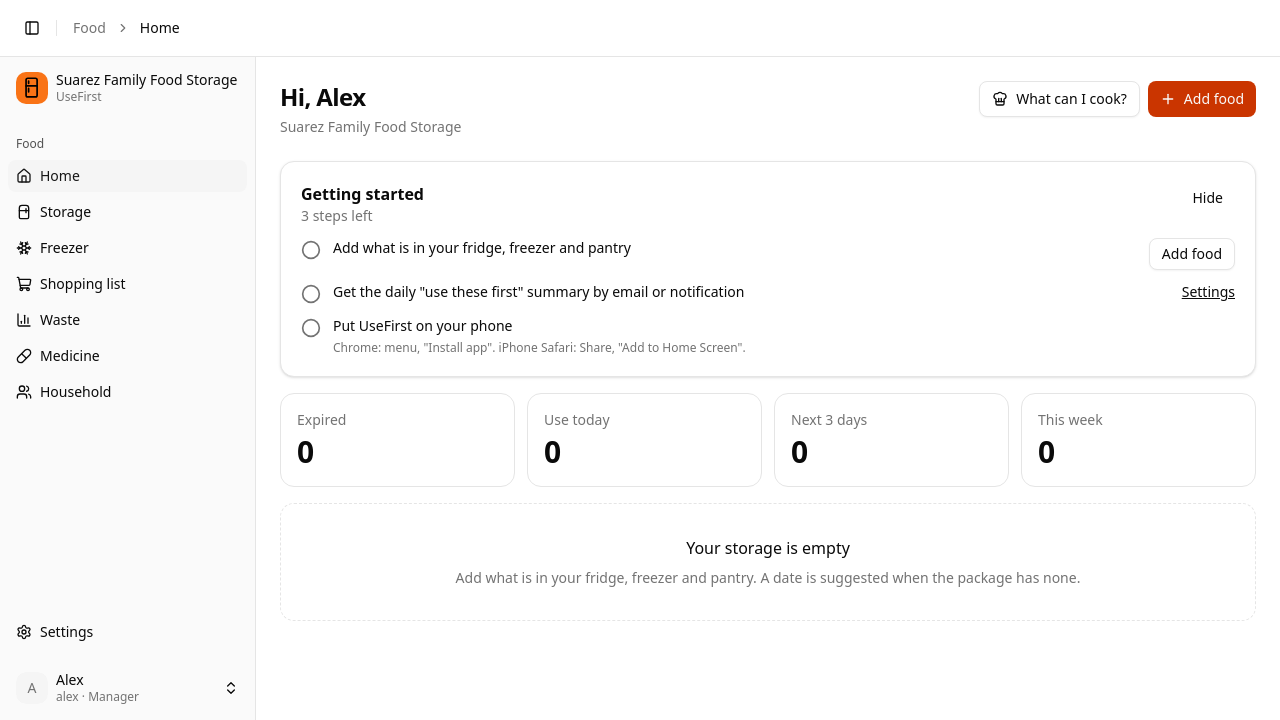
What can I cook? › shows ideas with what they use and the steps
Expected: the text "Your storage is empty" is shown, [686,537,850,559]
Click the button "What can I cook?": (1059, 99) [979,81,1140,117]
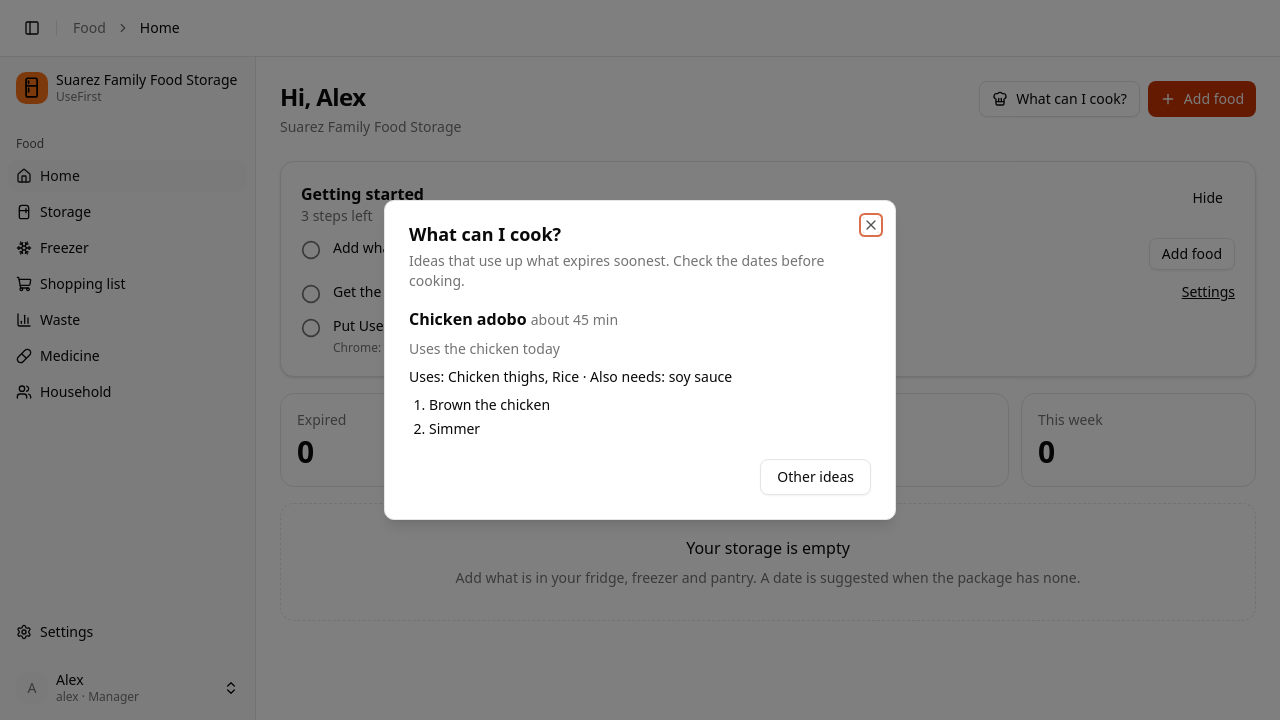
Now the heading "Chicken adobo about 45 min" is shown, box [409,308,618,330]
Now the element showing "Uses: Chicken thighs, Rice · Also needs: soy sauce" is shown, box [409,367,732,386]
Now the list item "Simmer" is shown, box [429,419,480,438]
